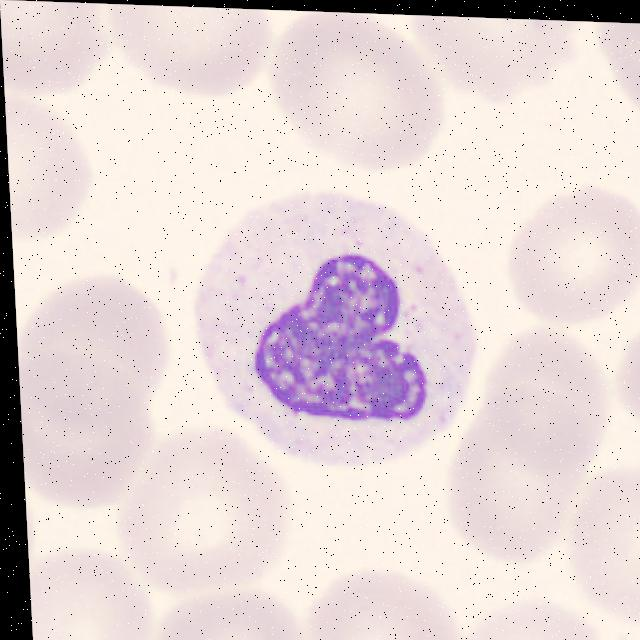neutrophil: (180, 175, 496, 471)
rbc: (261, 10, 446, 180), (121, 422, 292, 599), (440, 385, 587, 569), (15, 266, 176, 425), (18, 348, 159, 524), (497, 174, 640, 329), (482, 315, 605, 476), (410, 15, 582, 118), (112, 4, 284, 107), (297, 551, 465, 640), (5, 90, 91, 251), (0, 0, 111, 114), (28, 543, 158, 640), (571, 455, 640, 621), (155, 580, 306, 640), (462, 587, 611, 640), (596, 22, 640, 132), (610, 311, 640, 451)
